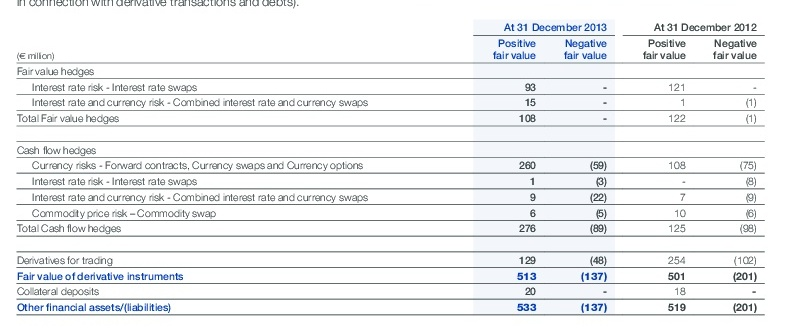table: (0, 0, 786, 332)
